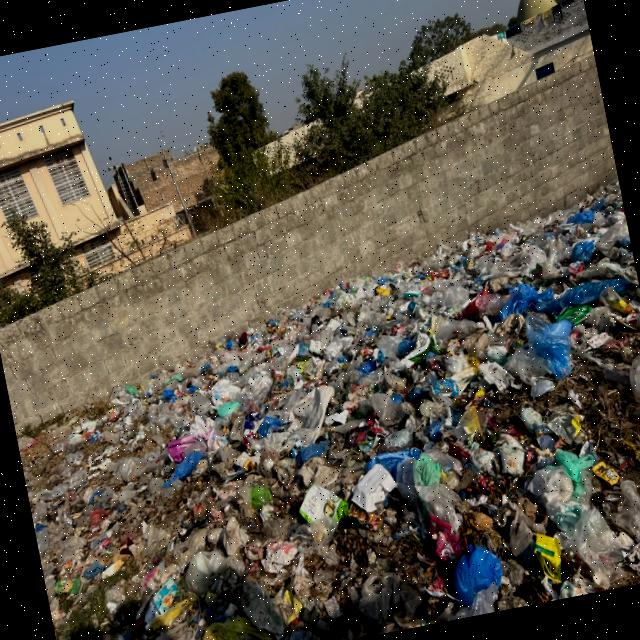garbage: (321, 211, 640, 632), (17, 291, 378, 640)
